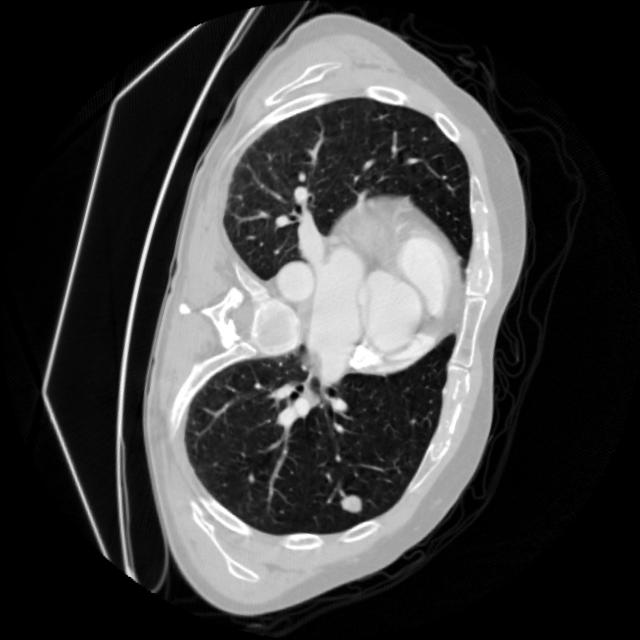nodule: (324, 478, 378, 533)
